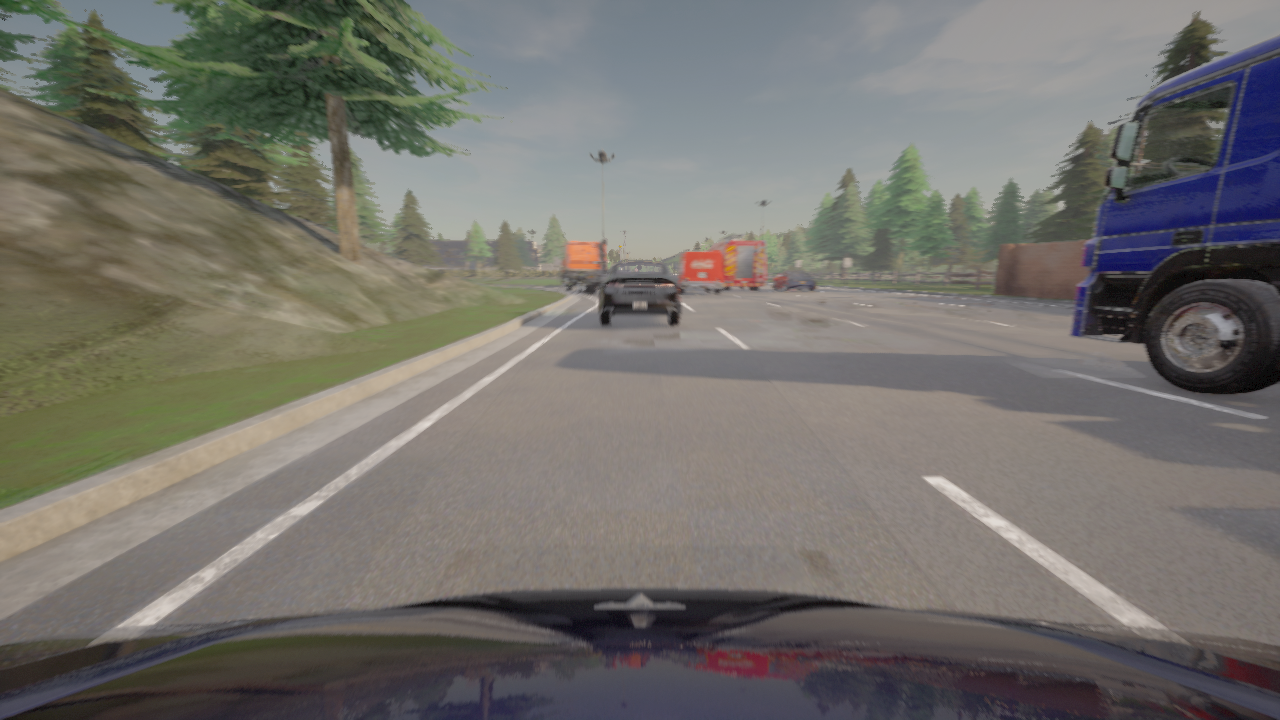cyclist: (0, 588, 1279, 719), (1070, 36, 1279, 394), (599, 261, 680, 325), (708, 234, 766, 290), (558, 240, 608, 294), (675, 252, 724, 293), (773, 271, 815, 291)
